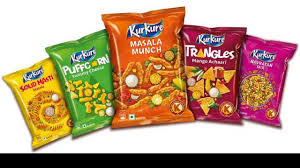kurkure: (192, 33, 233, 45), (128, 25, 166, 37), (66, 52, 105, 63), (253, 49, 283, 63), (24, 68, 47, 82)
plastic: (116, 23, 189, 129), (65, 48, 121, 124), (187, 34, 234, 121), (14, 72, 70, 141), (245, 42, 279, 128)
